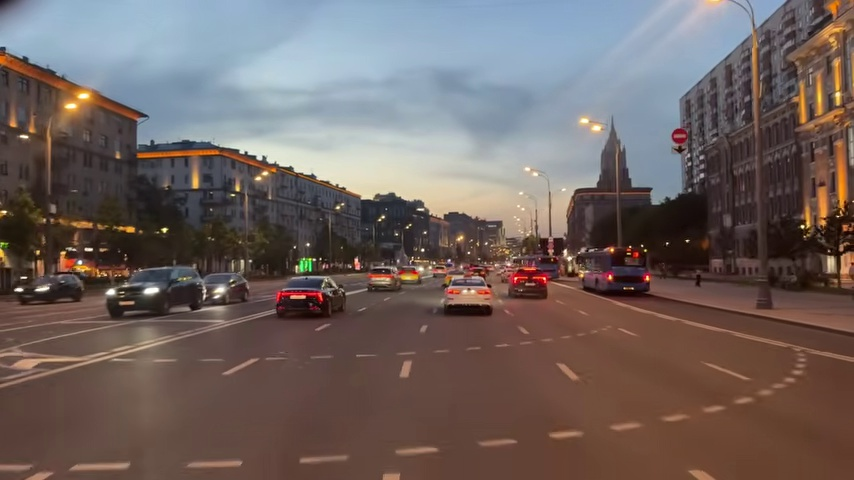acesa: (63, 91, 93, 115), (578, 115, 602, 135), (524, 166, 539, 180)
